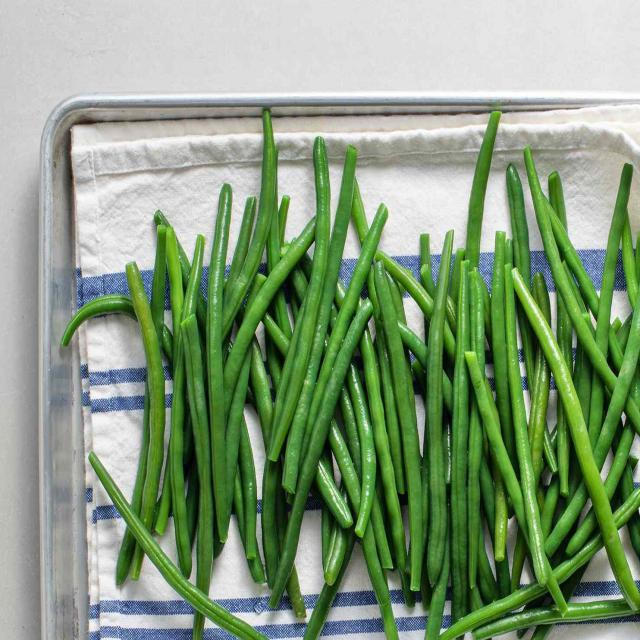Beans: (71, 163, 640, 640)
